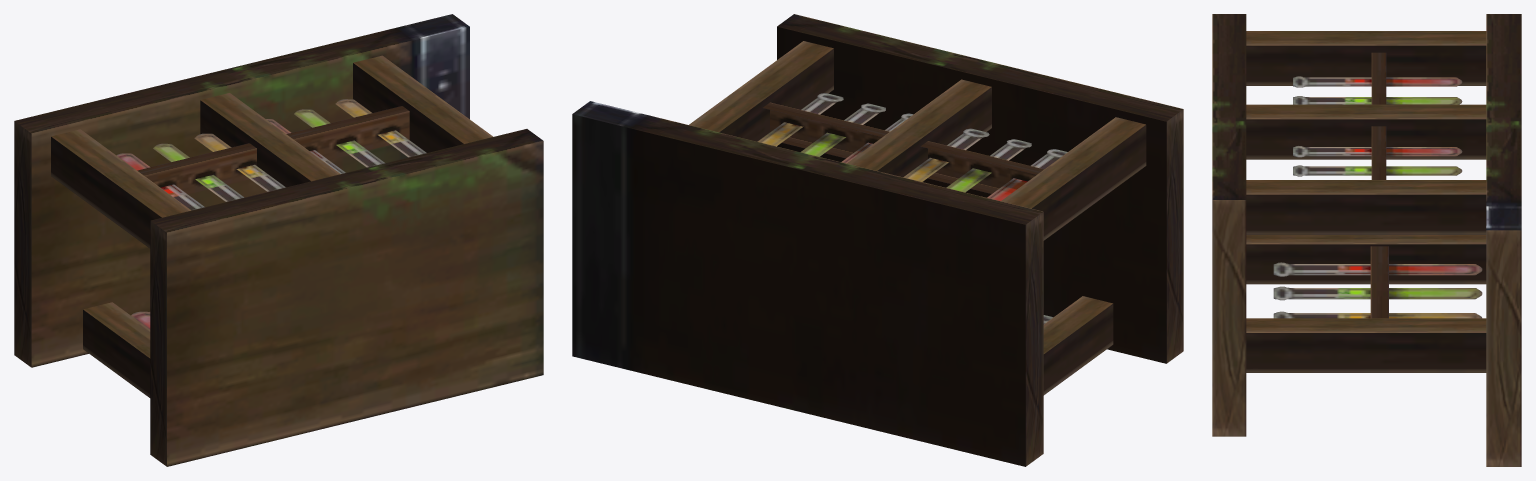
File: tanxian_fuben_257_lianjinfang_08.obj
The picture shows the model from 3 angles, left to right: view 1: azimuth 30°, elevation 25°; view 2: azimuth 150°, elevation 25°; view 3: azimuth 270°, elevation 25°; orthographic projection. The views are drawn at different scales.
Visible parts, largest first — view 1: tanxian_fuben_257_lianjinfang_08; view 2: tanxian_fuben_257_lianjinfang_08; view 3: tanxian_fuben_257_lianjinfang_08.
Part boxes in pixels (left/top/right/bottom): tanxian_fuben_257_lianjinfang_08: left=14, top=14, right=543, bottom=466; tanxian_fuben_257_lianjinfang_08: left=572, top=14, right=1183, bottom=466; tanxian_fuben_257_lianjinfang_08: left=1212, top=14, right=1521, bottom=466.
Size of the model in its own units: 30.87 by 15.75 by 18.65.
1 material, 1 textured.
